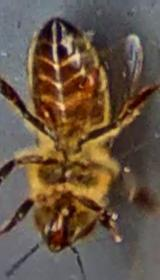varroa_mite: (68, 63, 113, 100)
